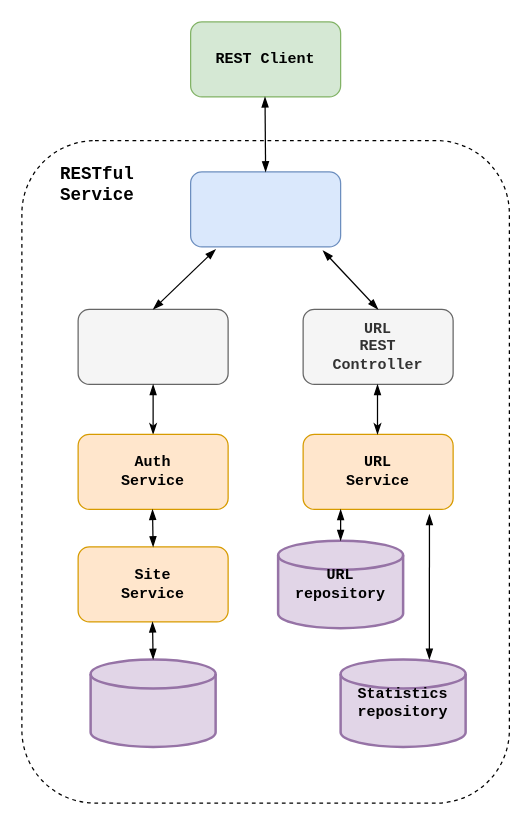
Image size: 531x825. Some labels were removed from this diagram. Here are the shapes that lost their labels. From the top down, the centre of each, then its label:
At pixel 265 209: "Authorization Filter".
At pixel 152 346: "Security REST Controller".
At pixel 152 703: "Site repository".
